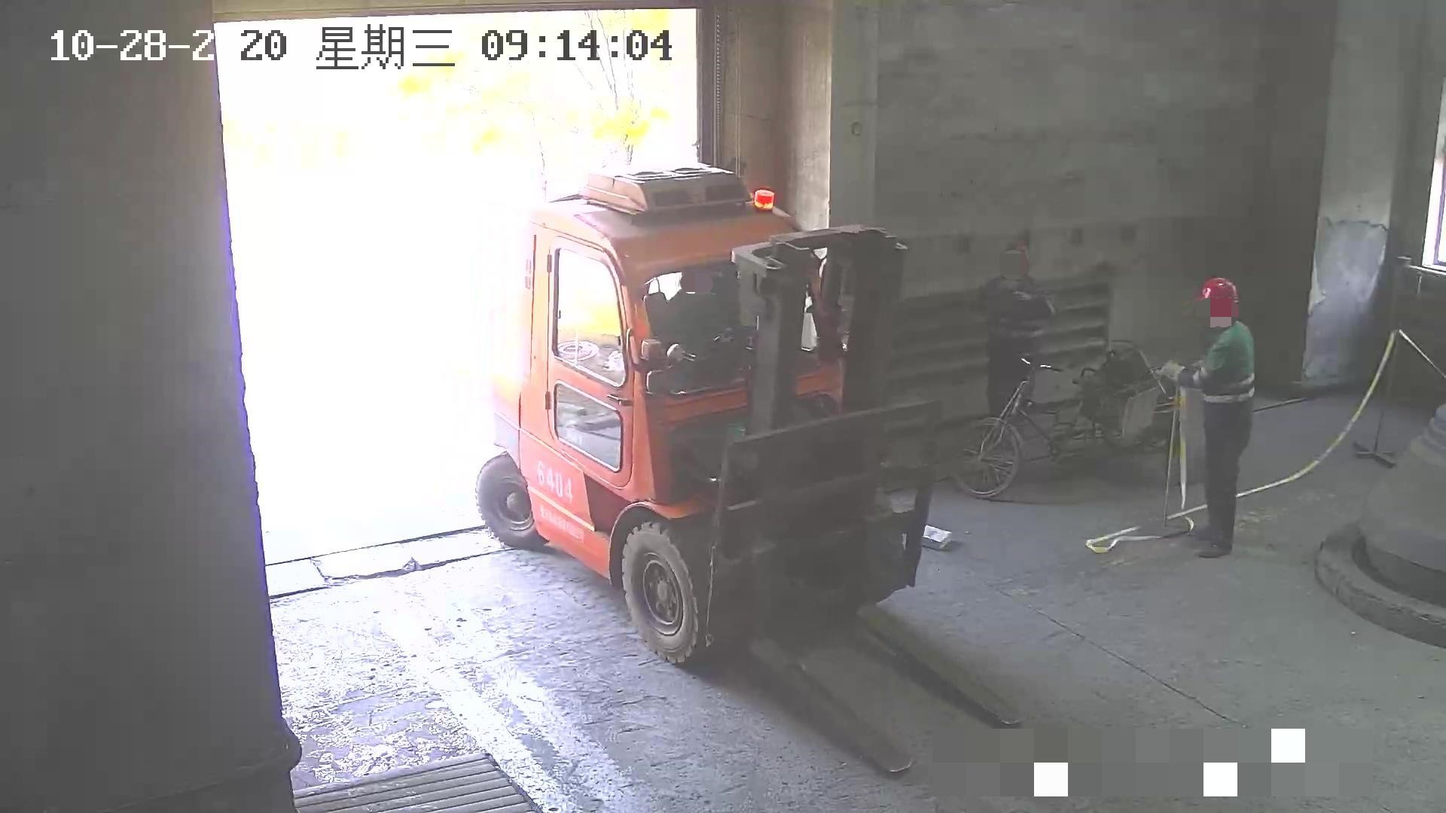hat: (1198, 276, 1240, 327), (1002, 244, 1031, 280)
person: (1162, 276, 1255, 561), (976, 243, 1057, 425)
